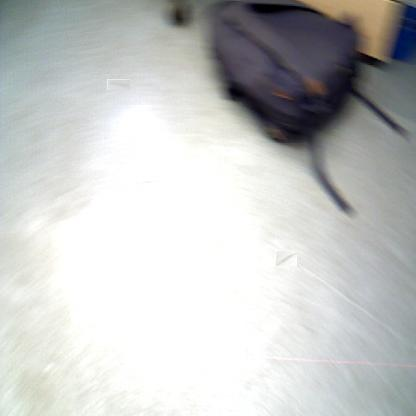mark: (275, 250, 297, 266), (107, 79, 130, 90)
